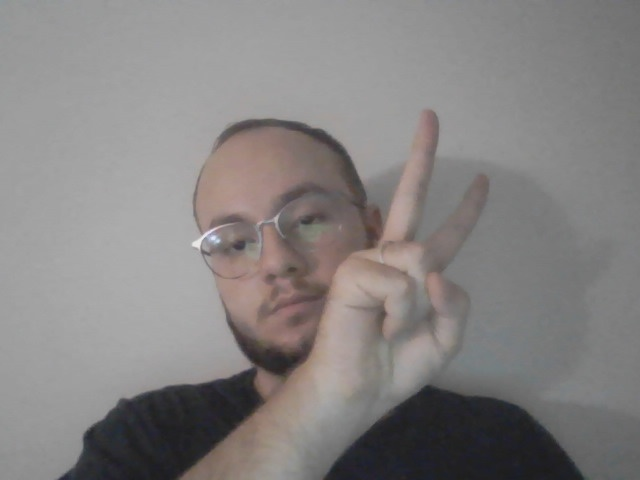Two: (313, 109, 491, 420)
